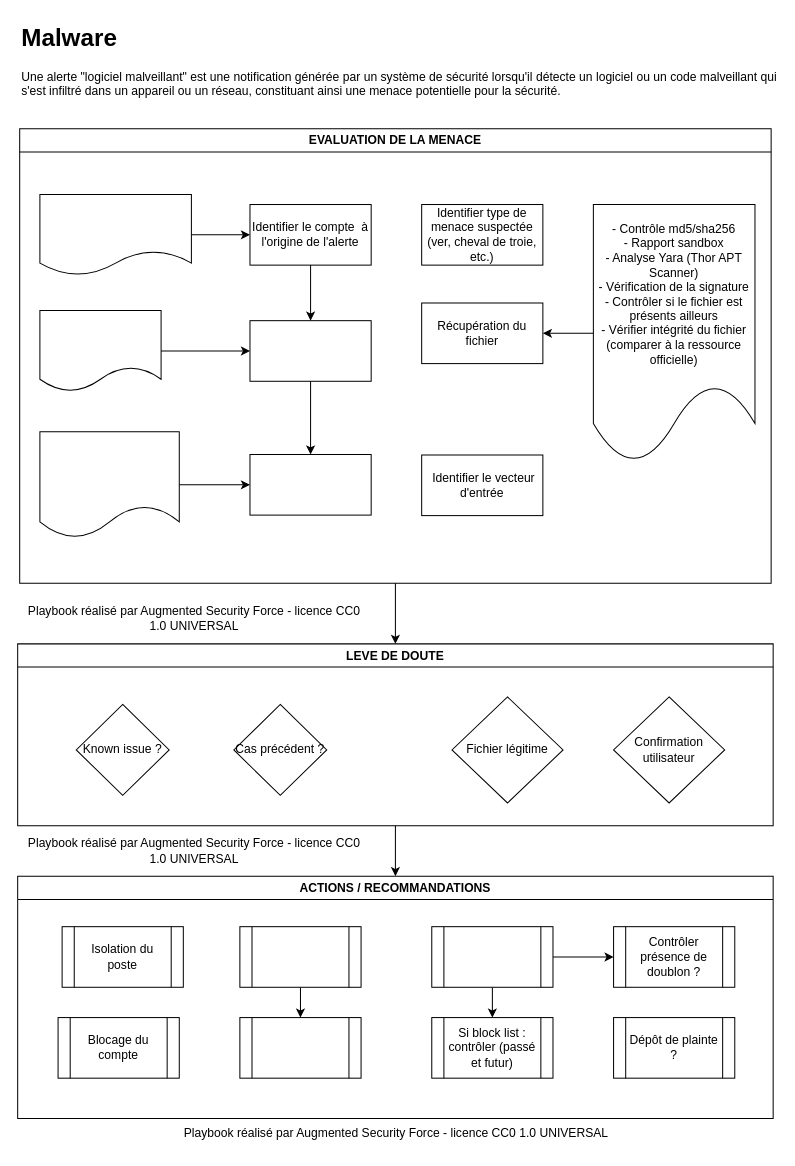
The diagram is 795 pixels wide and 1166 high, and some of its shapes have lost their labels. Here are the shapes that lost their labels. From the top down, the centre of each, then its label:
At (115,234): "- Compte VIP ? - A privilège ? - Compte de service ?".
At (100,350): "Poste partagé ?".
At (310,350): "Identifier le poste lié à cet utilisateur".
At (109,484): "Vulnérabilités pouvant avoir été exploitées pour compromettre le système".
At (310,484): "Identifier les vulnérabilités du poste".
At (300,956): "Extraction des preuves".
At (492,956): "Ajout de la source en allow / block list".
At (300,1047): "Analyse des journaux".
